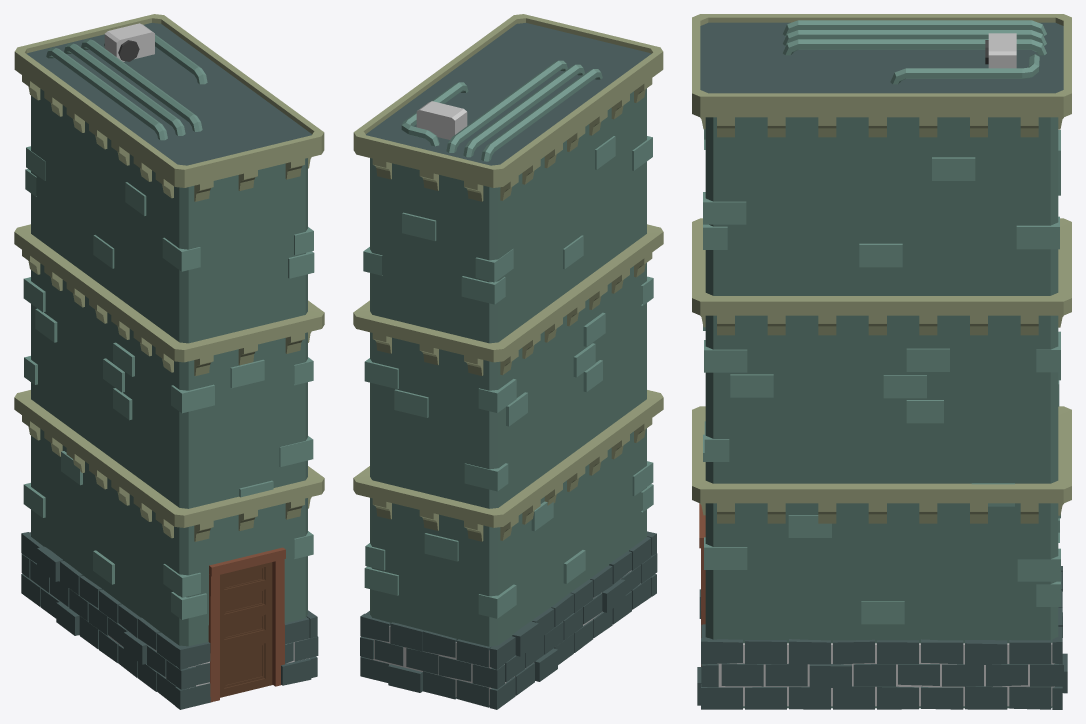
Rendered from 3Story_Slim_Mat.glb.
The picture shows the model from 3 angles, left to right: view 1: azimuth 30°, elevation 25°; view 2: azimuth 150°, elevation 25°; view 3: azimuth 270°, elevation 25°; orthographic projection. The views are drawn at different scales.
Parts seen in each view (by area): view 1: 3Story_Slim_Mat; view 2: 3Story_Slim_Mat; view 3: 3Story_Slim_Mat.
Boxes of the visible parts, x1,y1,x2,y2 form: 3Story_Slim_Mat: (14, 14, 324, 709); 3Story_Slim_Mat: (353, 14, 663, 709); 3Story_Slim_Mat: (692, 14, 1071, 709).
Bounding box in the file's own units: 1.12 × 3.99 × 2.15.
